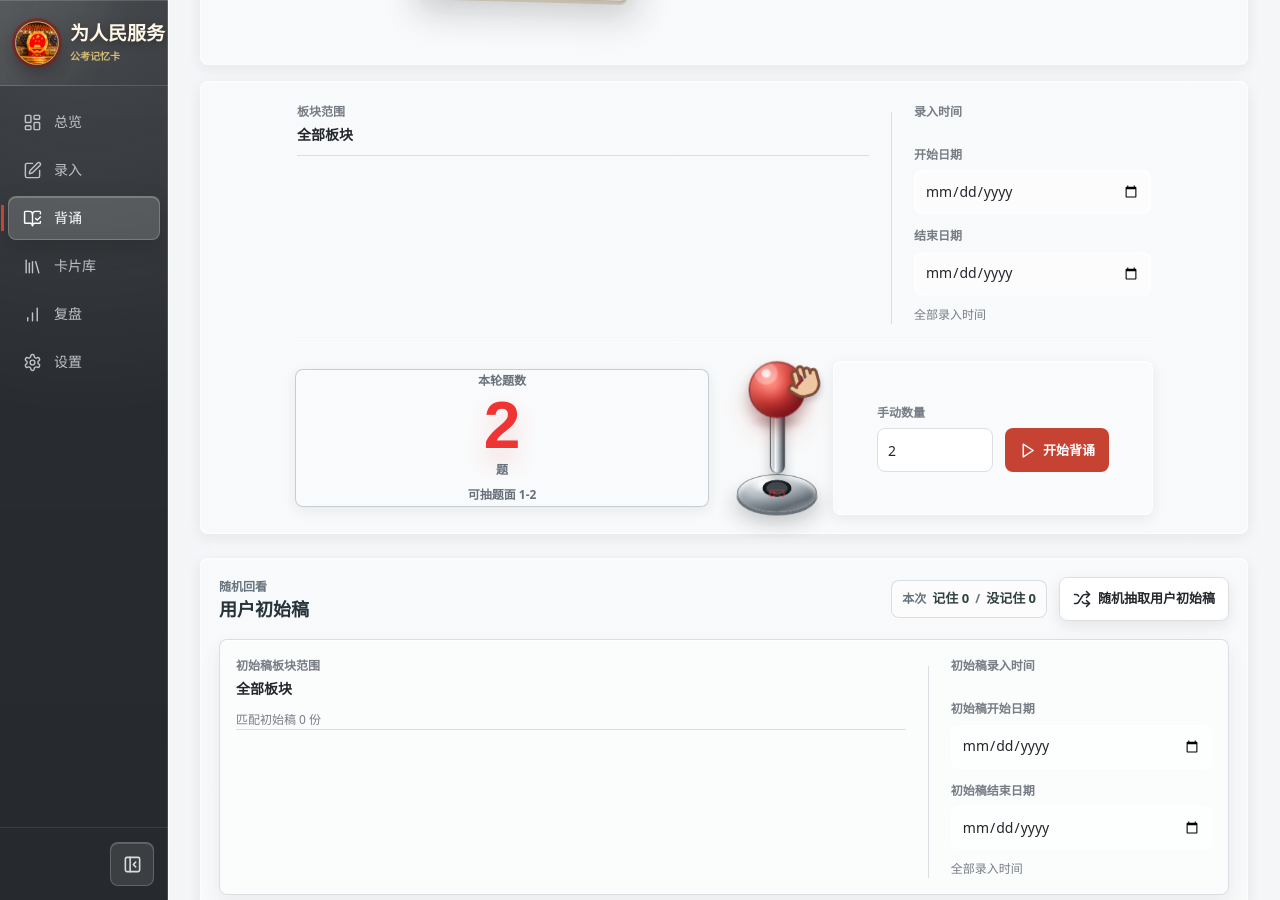
Test: 背诵键盘快捷操作 › Y 直接提交记住了并自动进入下一张
(page scrolled)
Click the button "开始背诵" at (1057, 450), box [1005, 428, 1109, 472]
(page scrolled)
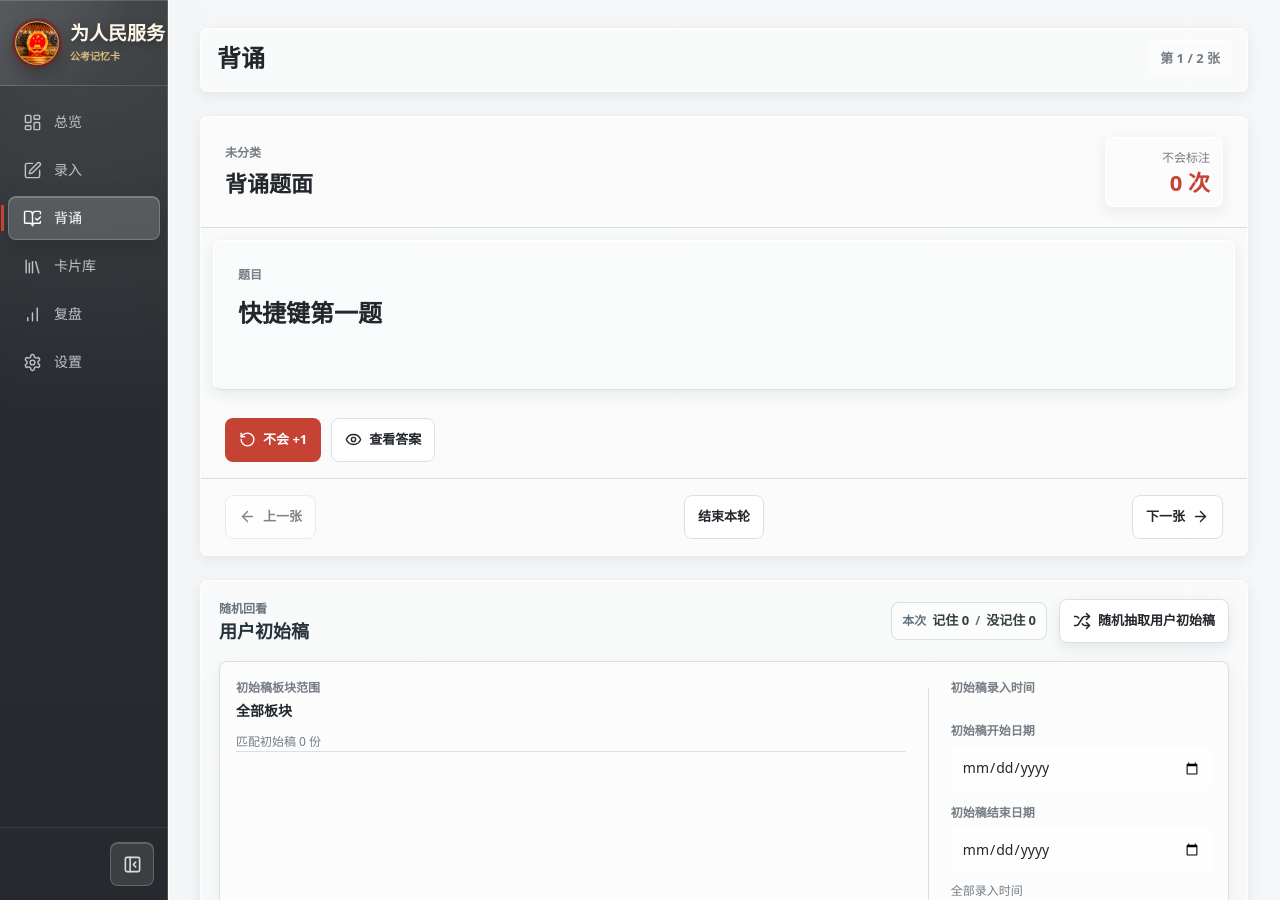
Check: the text "快捷键第一题" is shown, box [238, 296, 382, 329]
Press Y
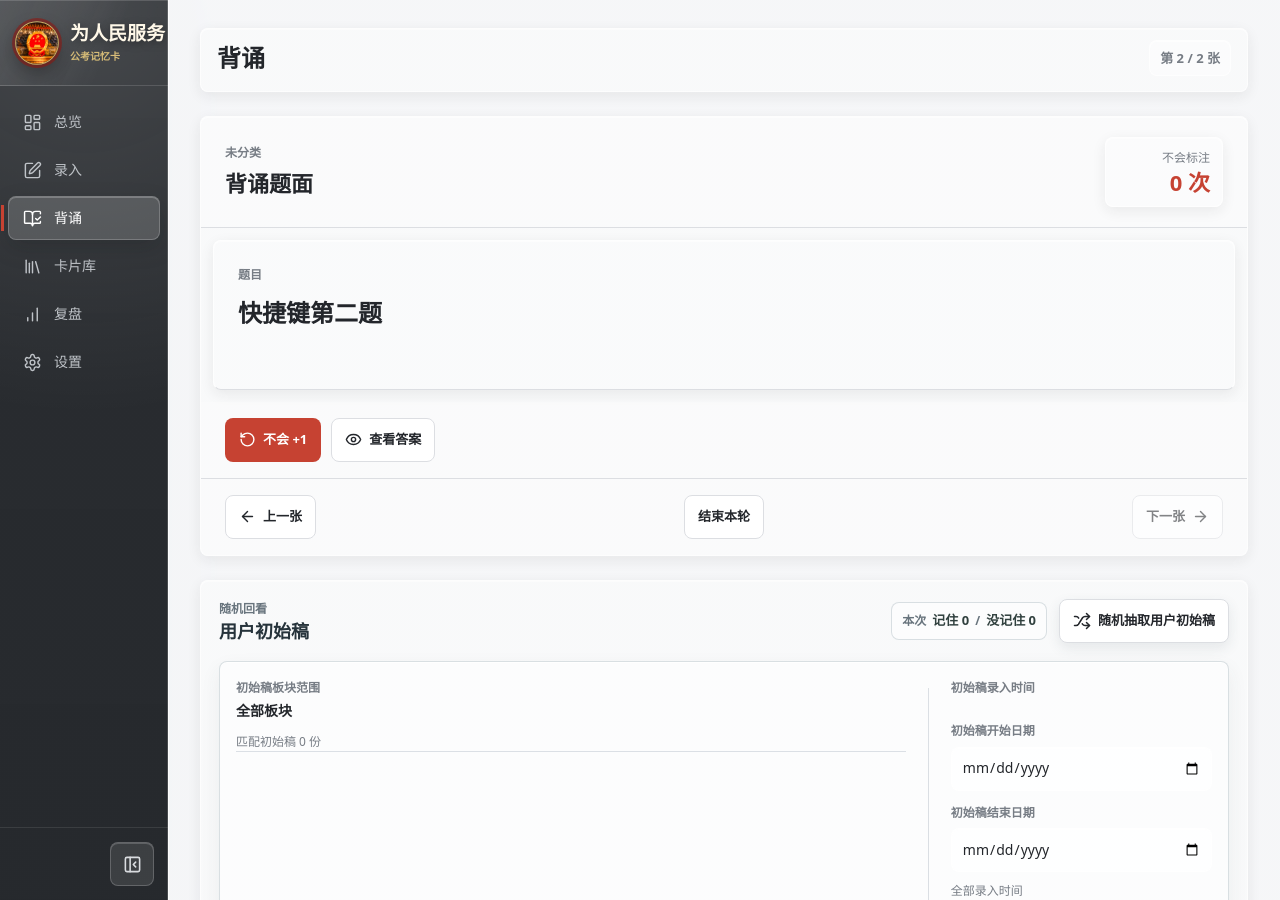
Check: the text "快捷键第二题" is shown, box [238, 296, 382, 329]
